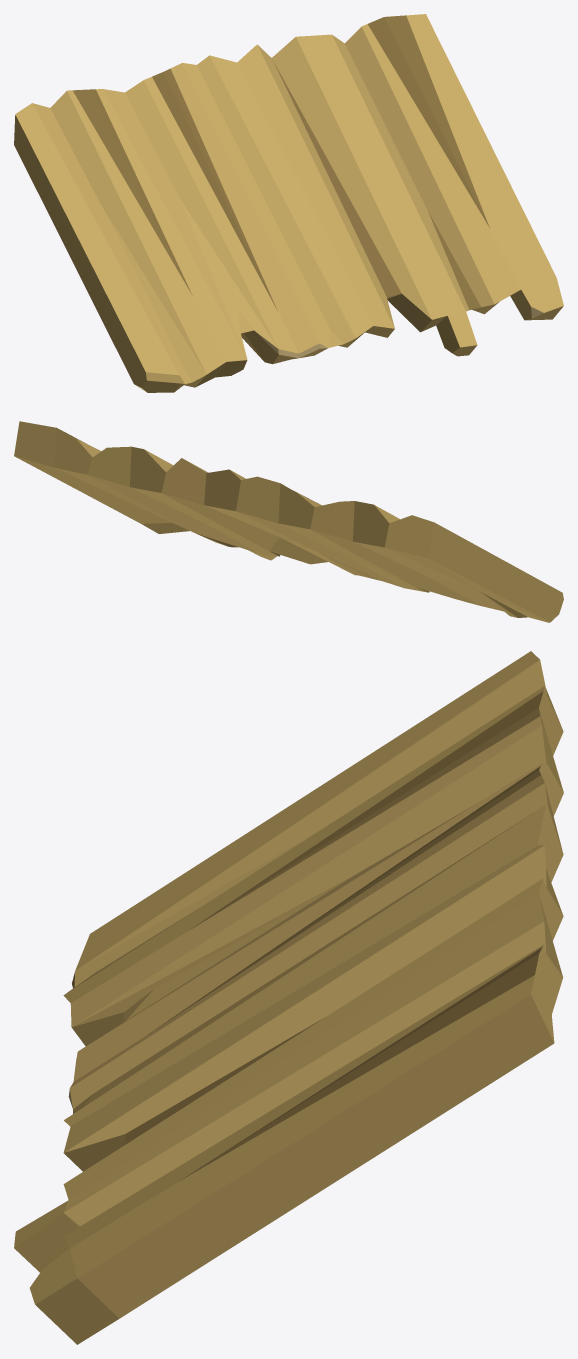
The picture shows the model from 3 angles, top to bottom: view 1: azimuth 30°, elevation 25°; view 2: azimuth 150°, elevation 25°; view 3: azimuth 270°, elevation 25°; orthographic projection. The views are drawn at different scales.
Visible parts, largest first — view 1: Cube; view 2: Cube; view 3: Cube.
Part boxes in pixels (bbox=[...]): Cube: bbox=[14, 14, 563, 392]; Cube: bbox=[14, 421, 563, 622]; Cube: bbox=[14, 651, 563, 1344].
Size of the model in its own units: 6.93 by 3.57 by 4.69.
1 material, 1 textured.
